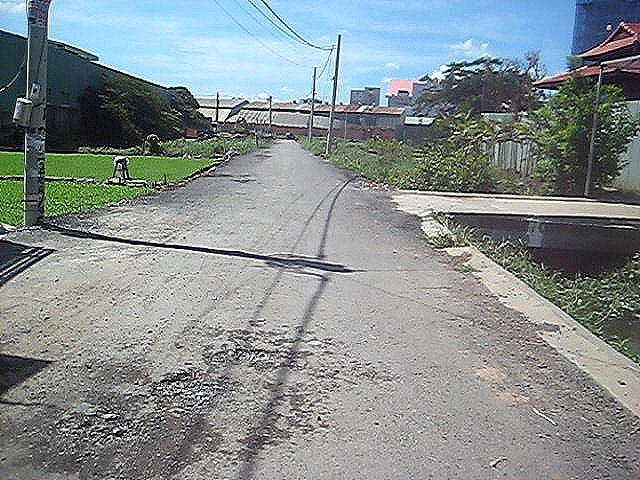hole: (39, 404, 149, 453), (152, 367, 227, 411), (206, 345, 298, 368)
